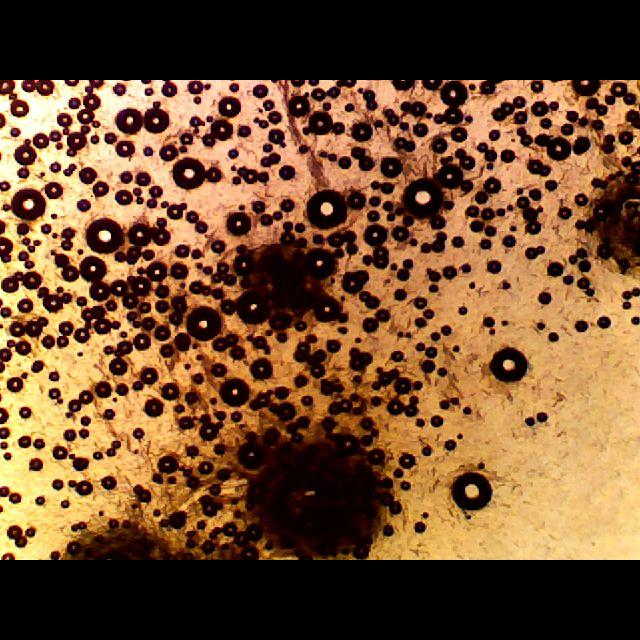microbeads: (306, 184, 348, 232), (82, 214, 126, 253), (450, 472, 492, 510), (402, 178, 443, 216), (487, 346, 528, 382), (168, 158, 206, 190), (9, 190, 45, 222)
